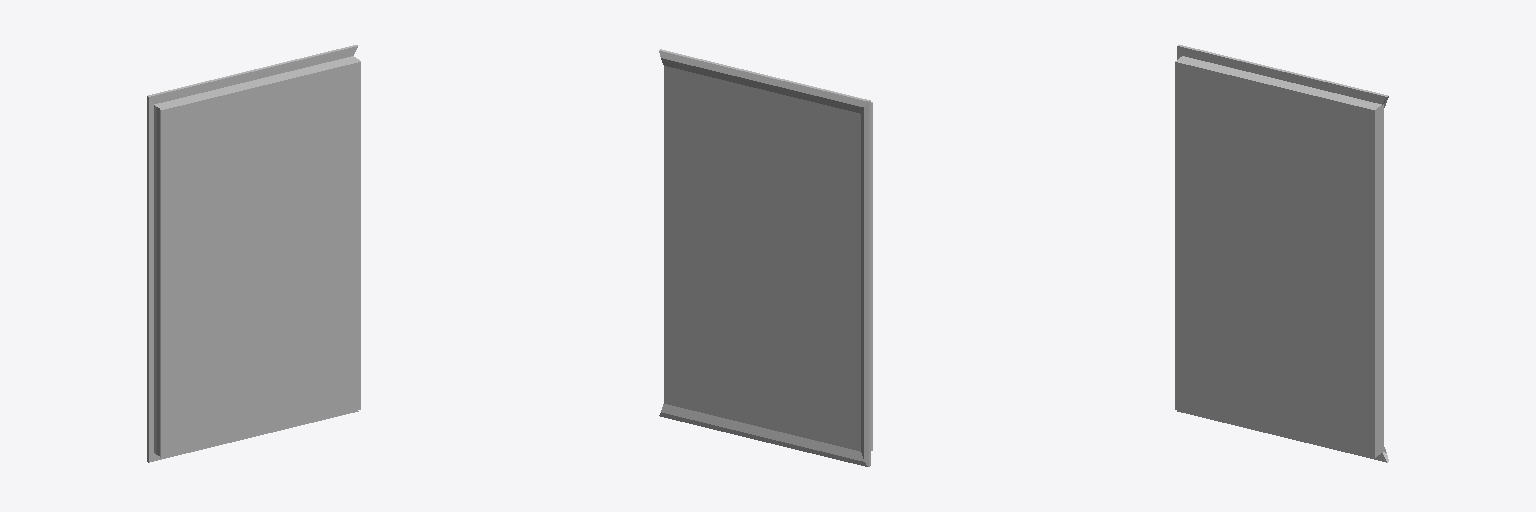
File: Top.obj
3 renders of one model, left to right at view 1: azimuth 30°, elevation 25°; view 2: azimuth 150°, elevation 25°; view 3: azimuth 330°, elevation 25°, orthographic.
Visible parts, largest first — view 1: Top:Mesh; view 2: Top:Mesh; view 3: Top:Mesh.
Part boxes in pixels (left/top/right/bottom): Top:Mesh: left=147, top=45, right=360, bottom=462; Top:Mesh: left=659, top=49, right=872, bottom=466; Top:Mesh: left=1175, top=45, right=1388, bottom=462.
Bounding box in the file's own units: 16.35 × 27.19 × 1.47.